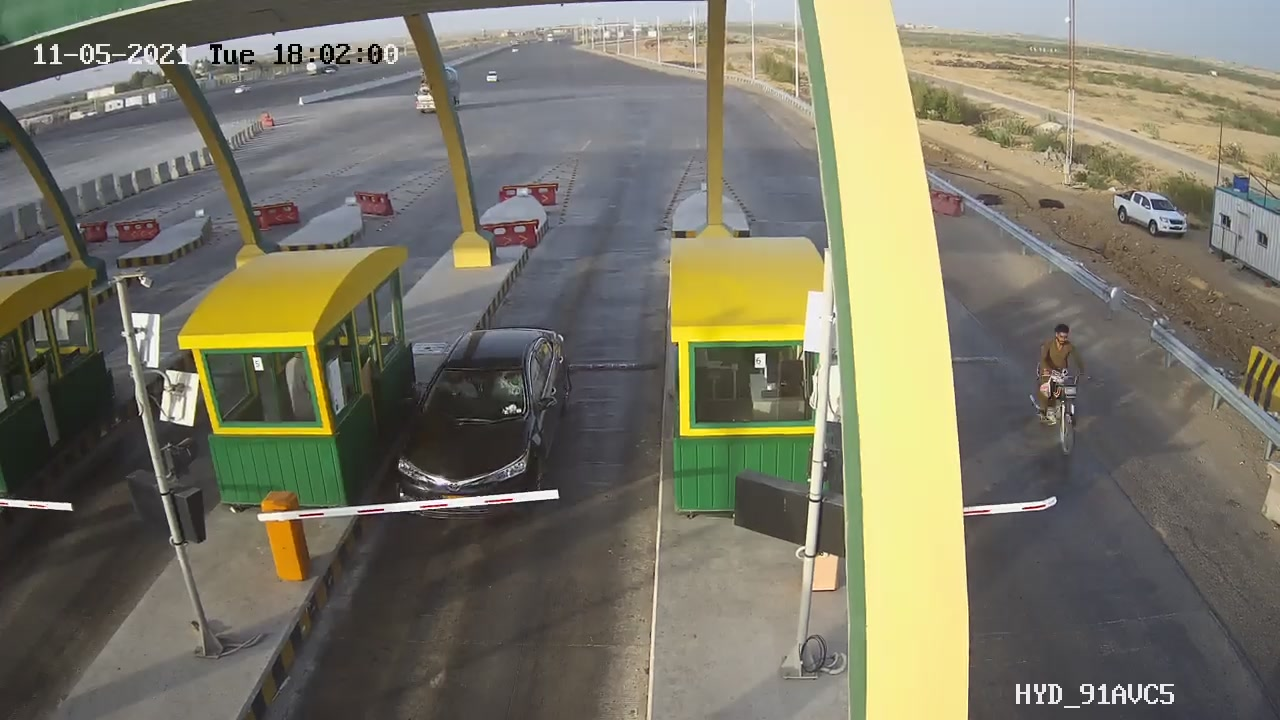F1: (376, 312, 586, 546)
